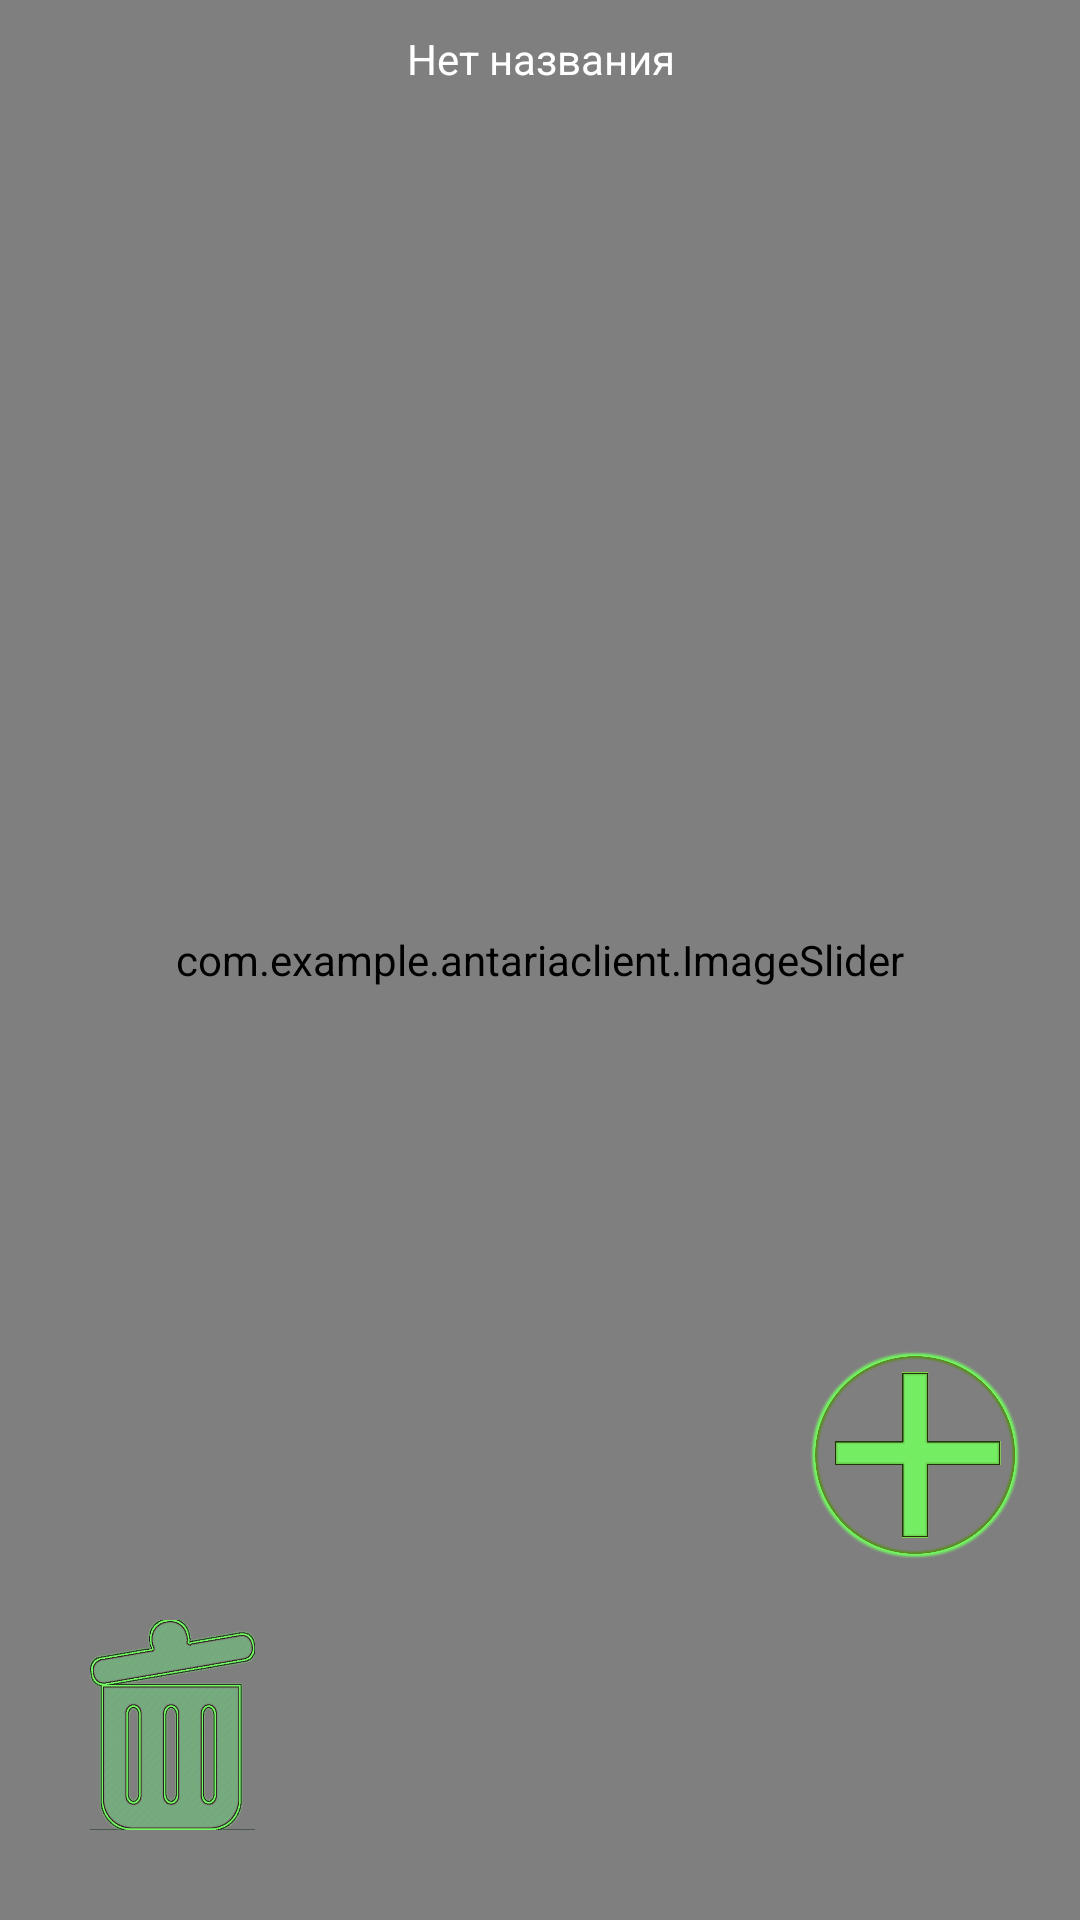

Where icons sit on this 1080 × 1920 app screen, as (x1,y1,x2,y2):
add: (812,1353,1019,1557)
delete: (90,1620,255,1830)
